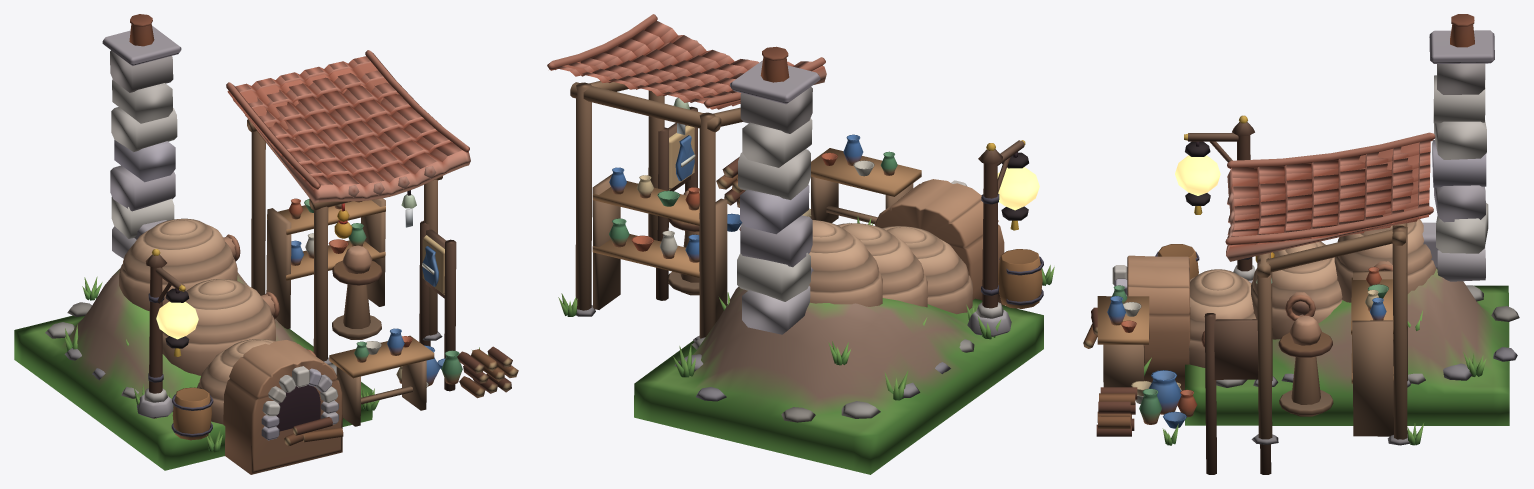
Rendered from kiln-2.glb.
The picture shows the model from 3 angles, left to right: view 1: azimuth 30°, elevation 25°; view 2: azimuth 150°, elevation 25°; view 3: azimuth 270°, elevation 25°; orthographic projection. The views are drawn at different scales.
Visible parts, largest first — view 1: kiln-2, window_glow; view 2: kiln-2, window_glow; view 3: kiln-2, window_glow.
Boxes of the visible parts, left/top/right/bottom form: kiln-2: left=14, top=14, right=518, bottom=474; window_glow: left=156, top=301, right=198, bottom=339; kiln-2: left=547, top=14, right=1054, bottom=474; window_glow: left=997, top=167, right=1039, bottom=210; kiln-2: left=1083, top=14, right=1519, bottom=474; window_glow: left=1175, top=155, right=1220, bottom=195.
Size of the model in its own units: 2.98 by 2.89 by 3.23.
